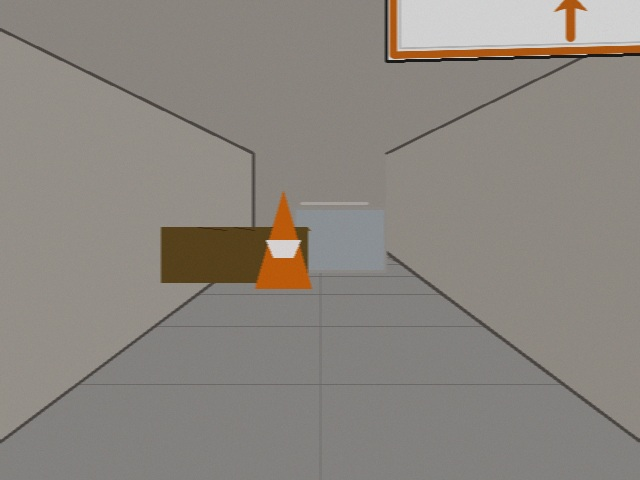directional_sign: (386, 0, 639, 61)
hospital_bed: (294, 208, 385, 271)
obstacle: (255, 191, 311, 288)
pallet: (161, 227, 310, 282)
